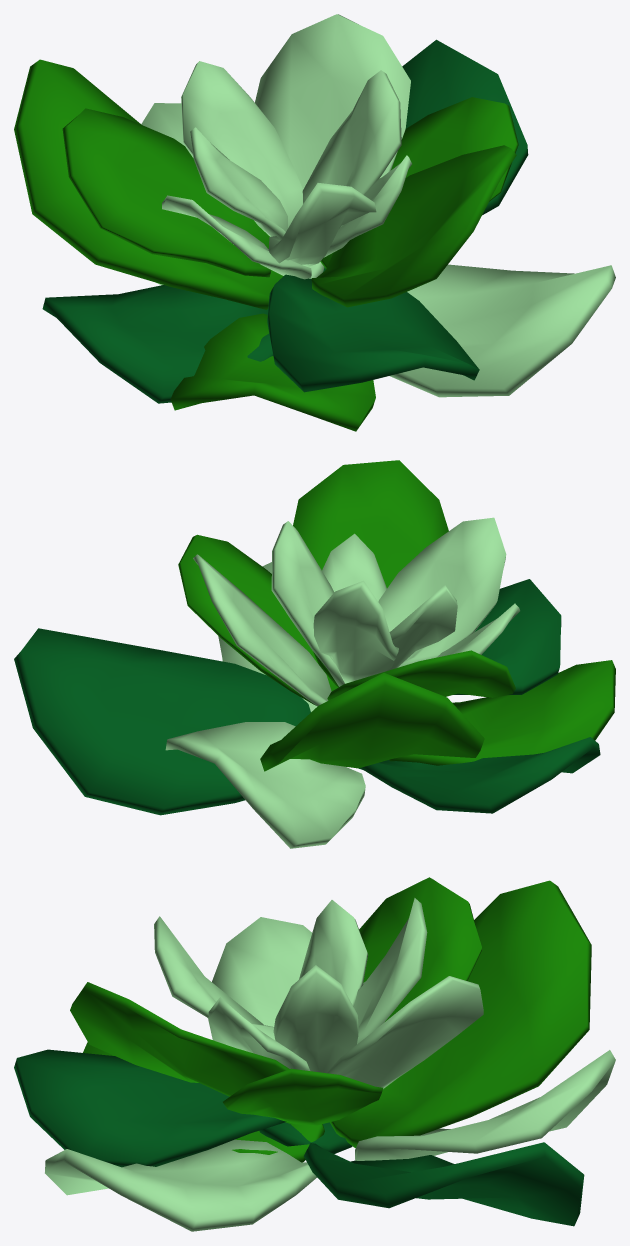
The model's file is Greens.fbx.
3 renders of one model, top to bottom at view 1: azimuth 30°, elevation 25°; view 2: azimuth 150°, elevation 25°; view 3: azimuth 270°, elevation 25°, orthographic. The views are drawn at different scales.
Parts seen in each view (by area): view 1: S3Greens.001; view 2: S3Greens.001; view 3: S3Greens.001.
Part boxes in pixels (x1,y1,x2,y2): S3Greens.001: (14, 14, 615, 431); S3Greens.001: (14, 460, 615, 848); S3Greens.001: (14, 877, 615, 1231).
Size of the model in its own units: 8.87 by 4.08 by 8.94.
